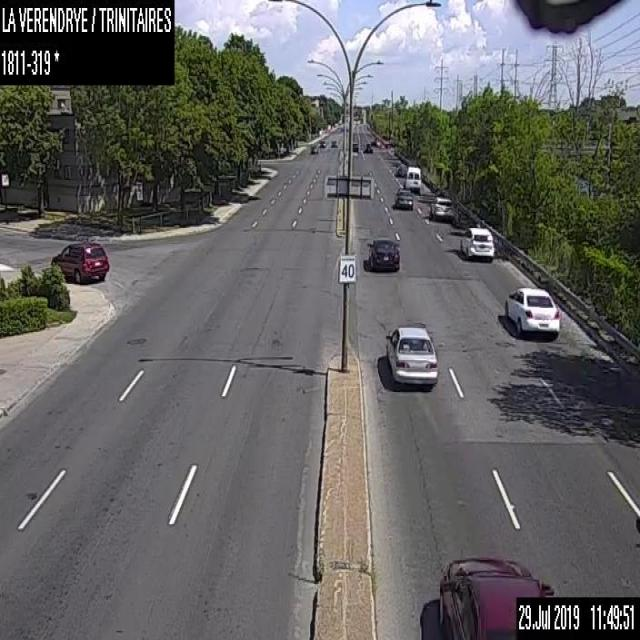vehicle: (438, 552, 556, 639), (385, 324, 438, 383), (504, 283, 560, 333), (50, 240, 108, 283), (459, 226, 494, 257), (368, 236, 399, 270), (429, 194, 454, 218), (402, 165, 420, 192), (392, 186, 413, 208), (394, 163, 406, 176), (362, 141, 372, 152), (310, 145, 318, 153), (319, 138, 326, 147), (352, 141, 358, 151), (330, 139, 337, 146)
